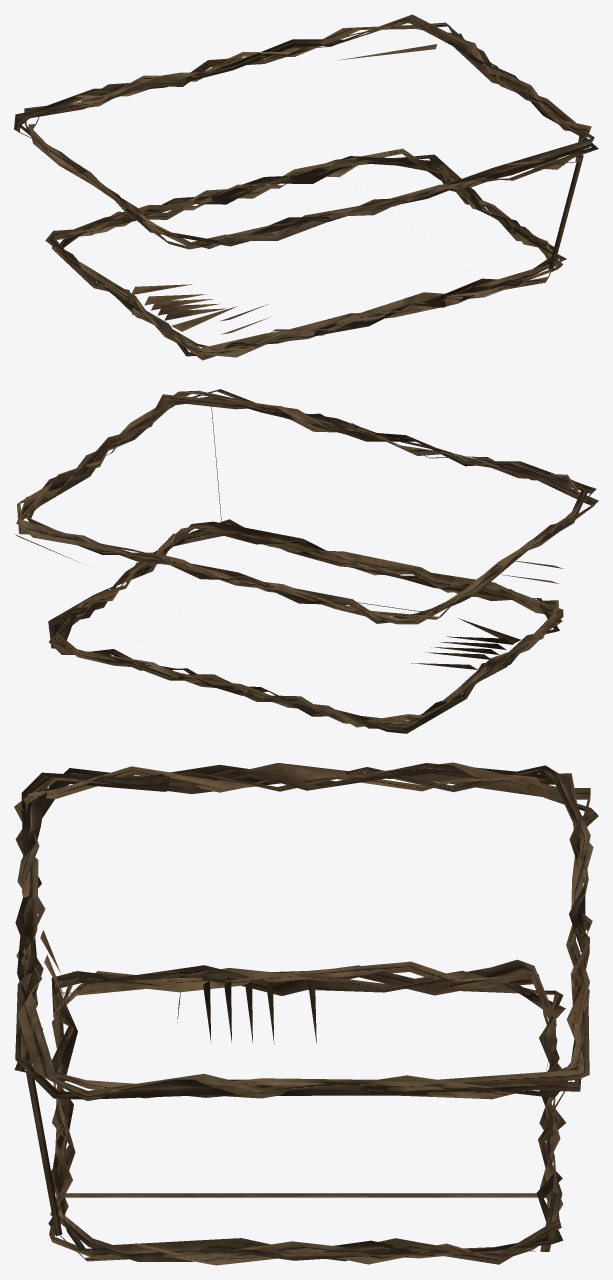
File: wicker_basket_01.glb
The picture shows the model from 3 angles, top to bottom: view 1: azimuth 30°, elevation 25°; view 2: azimuth 150°, elevation 25°; view 3: azimuth 270°, elevation 25°; orthographic projection. The views are drawn at different scales.
Visible parts, largest first — view 1: wicker_basket_01; view 2: wicker_basket_01; view 3: wicker_basket_01.
Boxes of the visible parts, left/top/right/bottom form: wicker_basket_01: left=14, top=14, right=598, bottom=360; wicker_basket_01: left=15, top=389, right=598, bottom=733; wicker_basket_01: left=14, top=762, right=598, bottom=1265.
Bounding box in the file's own units: 0.3819 × 0.1169 × 0.2928.
1 material, 1 textured.
